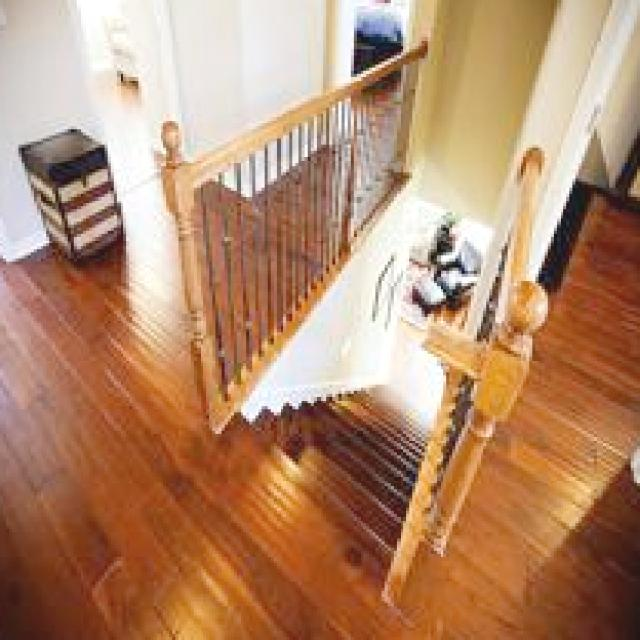downstair: (241, 346, 444, 561)
